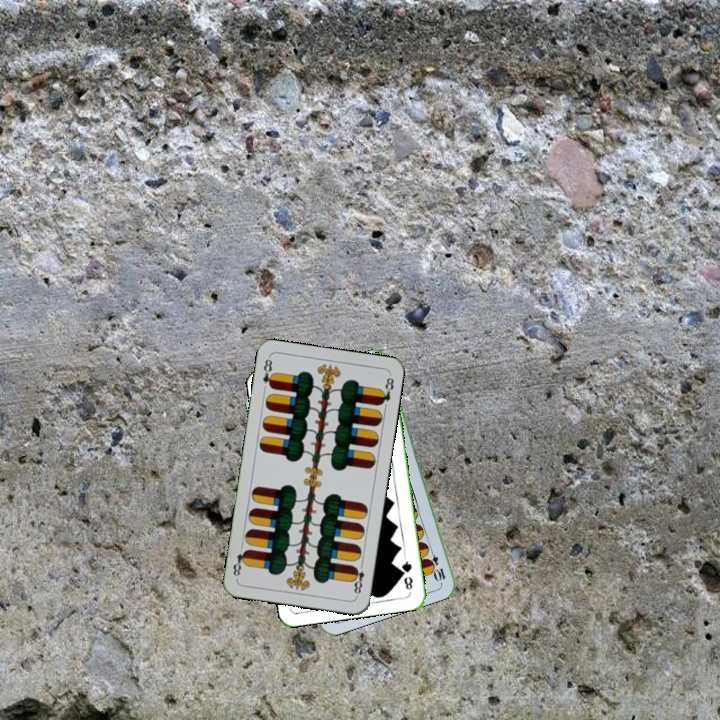E10: (424, 544, 448, 584)
E8: (348, 558, 367, 599), (259, 355, 277, 391)
G8: (397, 554, 415, 592)
